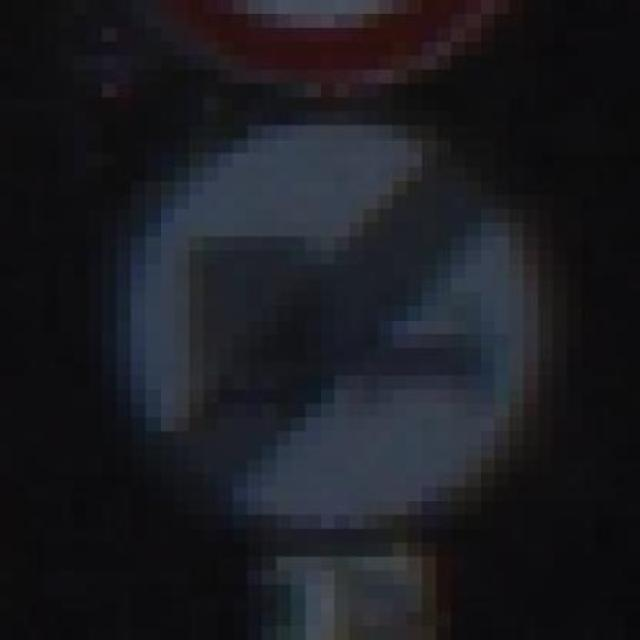Overtaking by trucks is prohibited: (43, 97, 597, 557)
